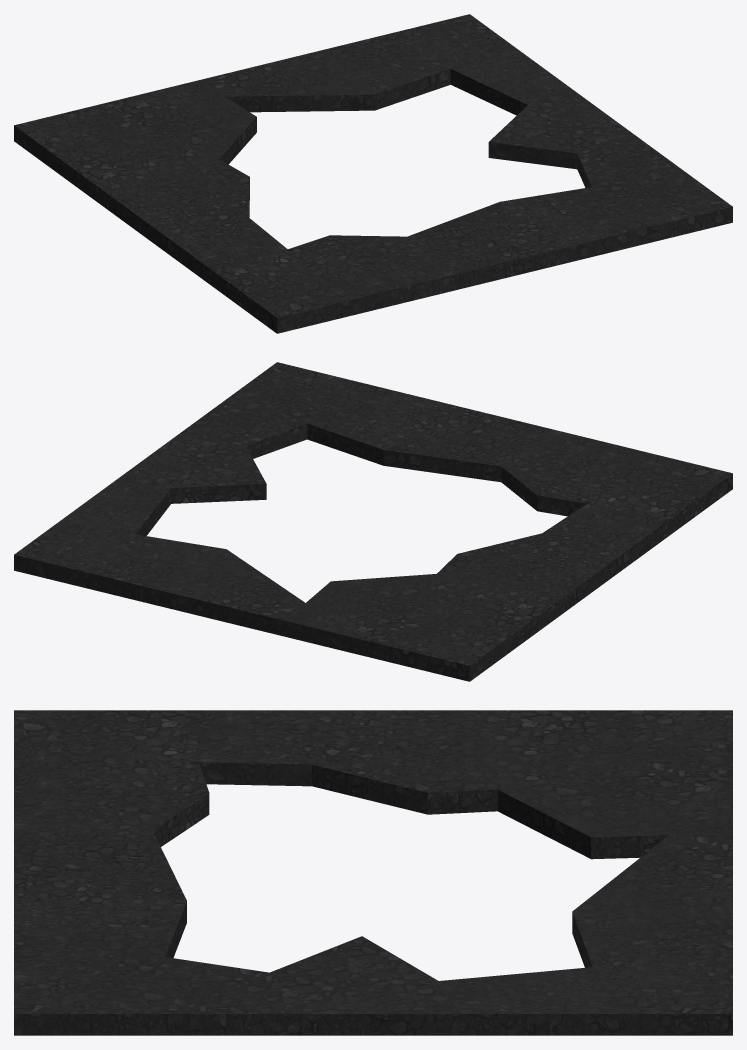
Rendered from roof02_middle_destroyed01.fbx.
3 views of the same model, one above another, from view 1: azimuth 30°, elevation 25°; view 2: azimuth 150°, elevation 25°; view 3: azimuth 270°, elevation 25° (orthographic). The views are drawn at different scales.
Visible parts, largest first — view 1: roof02_middle_destroyed01; view 2: roof02_middle_destroyed01; view 3: roof02_middle_destroyed01.
Part boxes in pixels (x1,y1,x2,y2): roof02_middle_destroyed01: (14,14,732,333); roof02_middle_destroyed01: (14,362,732,681); roof02_middle_destroyed01: (14,710,732,1035).
Bounding box in the file's own units: 300 × 10 × 300.
